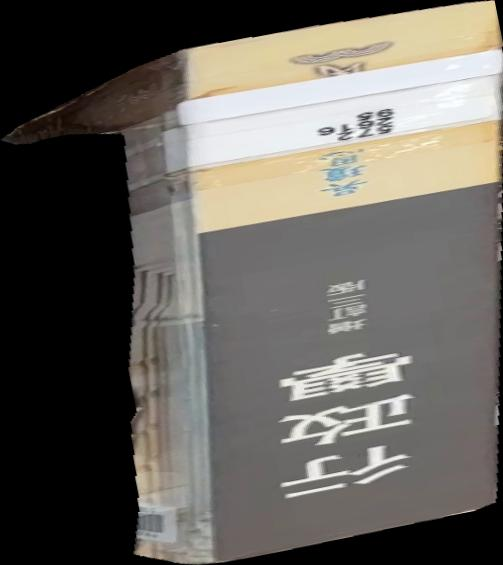reverse: (1, 1, 503, 565)
